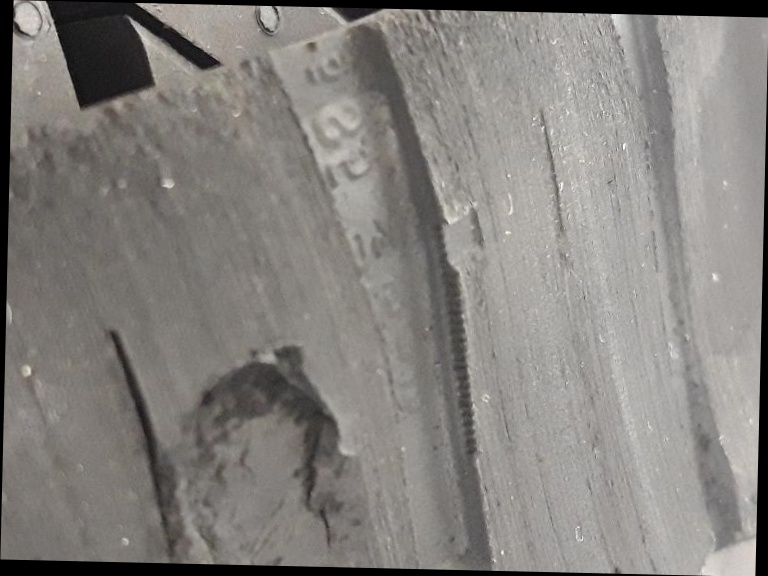temoin:0: (423, 195, 500, 292)
